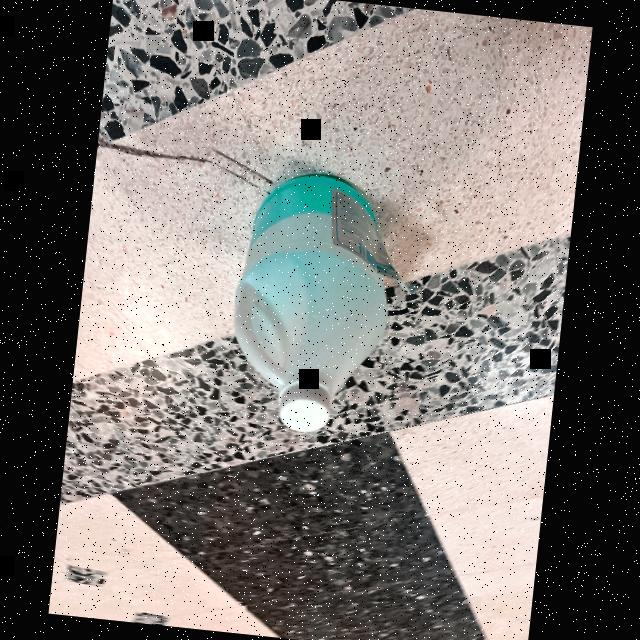chemical_plastic_gallon: (220, 164, 404, 440)
